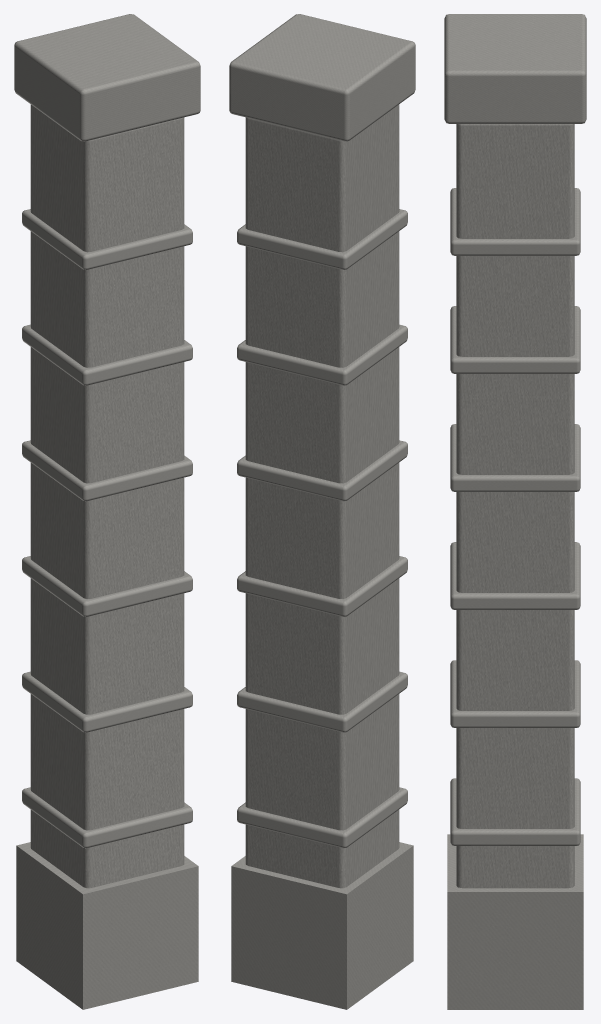
Rendered from tactical-shooter-hill-town-corner-post-97245195__27515.glb.
3 renders of one model, left to right at view 1: azimuth 30°, elevation 25°; view 2: azimuth 150°, elevation 25°; view 3: azimuth 270°, elevation 25°, orthographic. The views are drawn at different scales.
Parts seen in each view (by area): view 1: corner-post; view 2: corner-post; view 3: corner-post.
Part boxes in pixels (x1,y1,x2,y2): corner-post: [14, 14, 200, 1009]; corner-post: [229, 14, 415, 1009]; corner-post: [444, 14, 586, 1009].
Bounding box in the file's own units: 0.4798 × 3.5 × 0.4798.
1 material, 1 textured.
